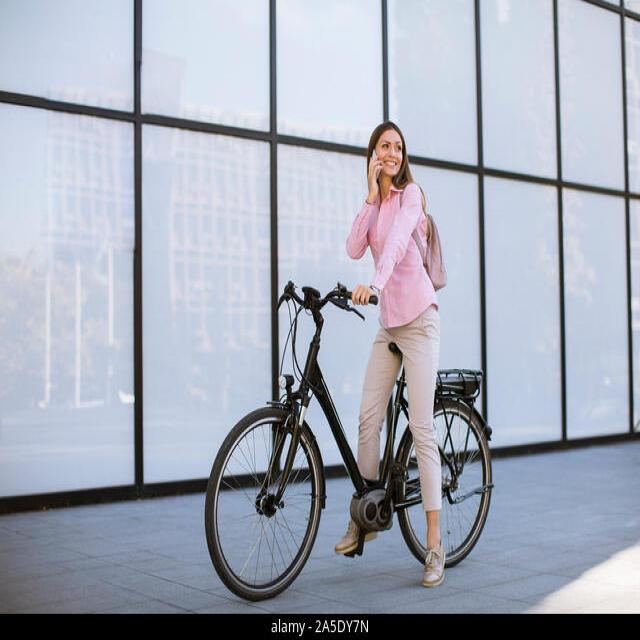Usage Of Phone While Riding: (340, 121, 448, 293), (358, 116, 420, 214)
